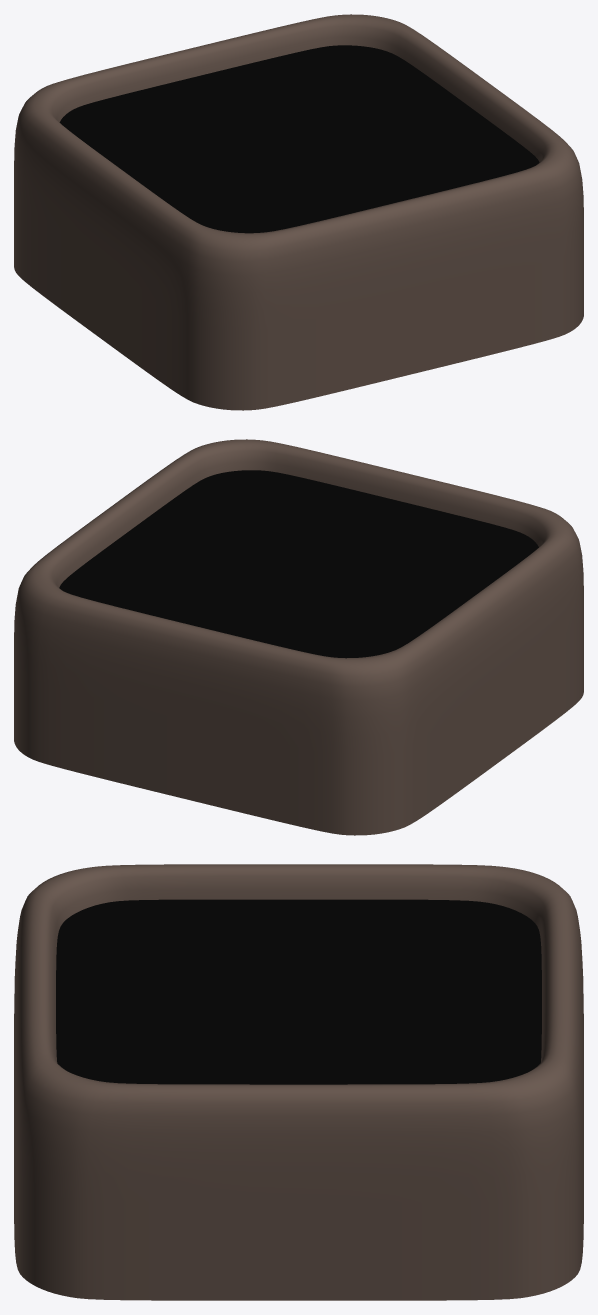
The model's file is hole.fbx.
3 views of the same model, one above another, from view 1: azimuth 30°, elevation 25°; view 2: azimuth 150°, elevation 25°; view 3: azimuth 270°, elevation 25° (orthographic). The views are drawn at different scales.
Visible parts, largest first — view 1: pPlane2, pPlane1; view 2: pPlane2, pPlane1; view 3: pPlane2, pPlane1.
Part boxes in pixels (left/top/right/bottom): pPlane2: left=14, top=14, right=583, bottom=410; pPlane1: left=59, top=45, right=539, bottom=233; pPlane2: left=14, top=439, right=583, bottom=835; pPlane1: left=59, top=470, right=538, bottom=658; pPlane2: left=14, top=864, right=583, bottom=1300; pPlane1: left=56, top=899, right=541, bottom=1084.
Bounding box in the file's own units: 360 × 142 × 360.
